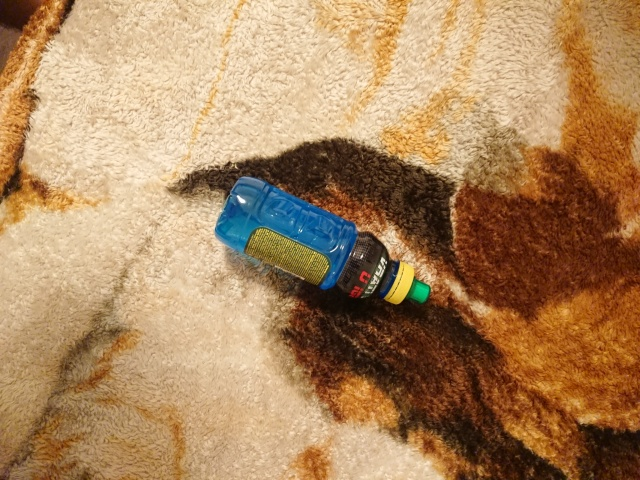Vindi Iso Sport Forest Strawberries 500mL: (212, 174, 433, 309)
